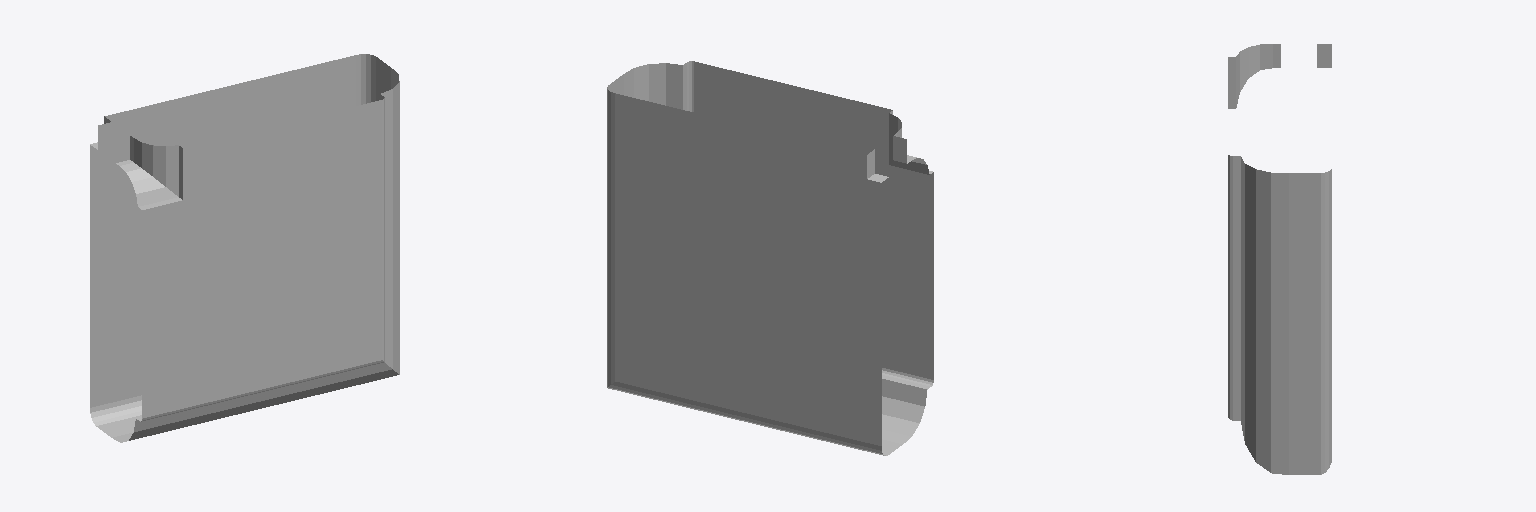
The model's file is original-50.obj.
3 renders of one model, left to right at view 1: azimuth 30°, elevation 25°; view 2: azimuth 150°, elevation 25°; view 3: azimuth 270°, elevation 25°, orthographic.
Visible parts, largest first — view 1: LT_11_BR1/LT_11_BR/mesh37/mesh37-geometry#mesh37-geometry; view 2: LT_11_BR1/LT_11_BR/mesh37/mesh37-geometry#mesh37-geometry; view 3: LT_11_BR1/LT_11_BR/mesh37/mesh37-geometry#mesh37-geometry.
Part boxes in pixels (left/top/right/bottom): LT_11_BR1/LT_11_BR/mesh37/mesh37-geometry#mesh37-geometry: left=90, top=54, right=399, bottom=442; LT_11_BR1/LT_11_BR/mesh37/mesh37-geometry#mesh37-geometry: left=607, top=61, right=933, bottom=455; LT_11_BR1/LT_11_BR/mesh37/mesh37-geometry#mesh37-geometry: left=1228, top=44, right=1331, bottom=474.
Bounding box in the file's own units: 0.1004 × 0.1036 × 0.0327.